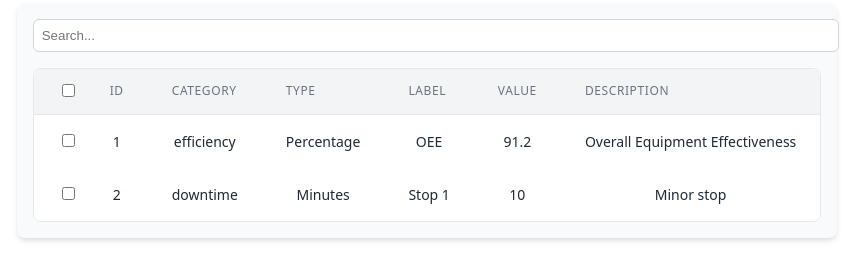
Test: shows no data when filter does not match
The width and height of the screenshot is (856, 259).
Type "XYZ" into the field with placeholder "Search...".
click(436, 35); type("XYZ")  # box [33, 18, 839, 52]
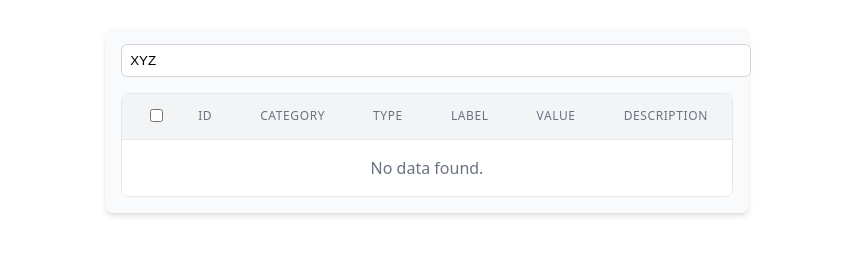
Now the text "No data found." is shown, box [122, 139, 732, 196]
